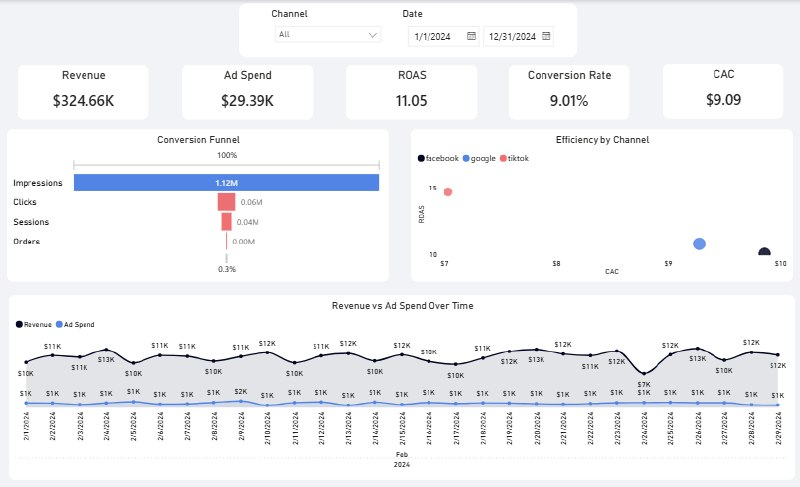

This screenshot's page, from the dashboard's own definition file:
{"tool":"powerbi","page":{"name":"Overview","canvas":[1280,720],"ordinal":0},"visuals":[{"type":"cardVisual","title":"Revenue","fields":{"Data":["Own Measures.Revenue"]},"box":[94,94.5,192,80],"z":0},{"type":"cardVisual","title":"Ad Spend","fields":{"Data":["Own Measures.Ad Spend"]},"box":[334,94.5,192,80],"z":1000},{"type":"cardVisual","title":"ROAS","fields":{"Data":["Own Measures.ROAS"]},"box":[574,94.5,192,80],"z":2000},{"type":"cardVisual","title":"Conversion Rate","fields":{"Data":["Own Measures.Conversion Rate"]},"box":[814,94.5,176,80],"z":3000},{"type":"lineChart","title":"Revenue vs Ad Spend Over Time","fields":{"Y":["Own Measures.Revenue","Own Measures.Ad Spend"],"Category":["marts dim_date.year Hierarchy.year","marts dim_date.year Hierarchy.month","marts dim_date.year Hierarchy.date"]},"box":[80,432,1152,272],"z":4000},{"type":"scatterChart","title":"Efficiency by Channel","fields":{"X":["Own Measures.CAC"],"Y":["Own Measures.ROAS"],"Size":["Own Measures.Revenue"],"Series":["marts dim_channel.channel"],"Category":["marts dim_channel.channel"]},"box":[669.5,189.2,560,224],"z":5000},{"type":"shape","box":[417.5,5,496,80],"z":6000},{"type":"slicer","title":"Channel","fields":{"Values":["marts dim_channel.channel"]},"box":[460.8,11.2,176,64],"z":7000},{"type":"slicer","title":"Date","fields":{"Values":["marts dim_date.date"]},"box":[652.8,11.2,240,64],"z":8000},{"type":"funnel","title":"Conversion Funnel","fields":{"Y":["Stages.Funnel Value"],"Category":["Stages.Stage"]},"box":[77.5,189.2,560,224],"z":9000},{"type":"cardVisual","title":"CAC","fields":{"Data":["Own Measures.CAC"]},"box":[1039.2,93,176,80],"z":10000}]}

Visuals, with their boxes on the page's 1280x720 design canvas (x1, y1, x2, y2). These are canvas units, not pixel positions in the 800x487 screenshot, which may show the page scaled, cropped or inside an application window:
"Revenue" cardVisual: box=[94, 94, 286, 174]
"Ad Spend" cardVisual: box=[334, 94, 526, 174]
"ROAS" cardVisual: box=[574, 94, 766, 174]
"Conversion Rate" cardVisual: box=[814, 94, 990, 174]
"Revenue vs Ad Spend Over Time" lineChart: box=[80, 432, 1232, 704]
"Efficiency by Channel" scatterChart: box=[670, 189, 1230, 413]
shape: box=[418, 5, 914, 85]
"Channel" slicer: box=[461, 11, 637, 75]
"Date" slicer: box=[653, 11, 893, 75]
"Conversion Funnel" funnel: box=[78, 189, 638, 413]
"CAC" cardVisual: box=[1039, 93, 1215, 173]
